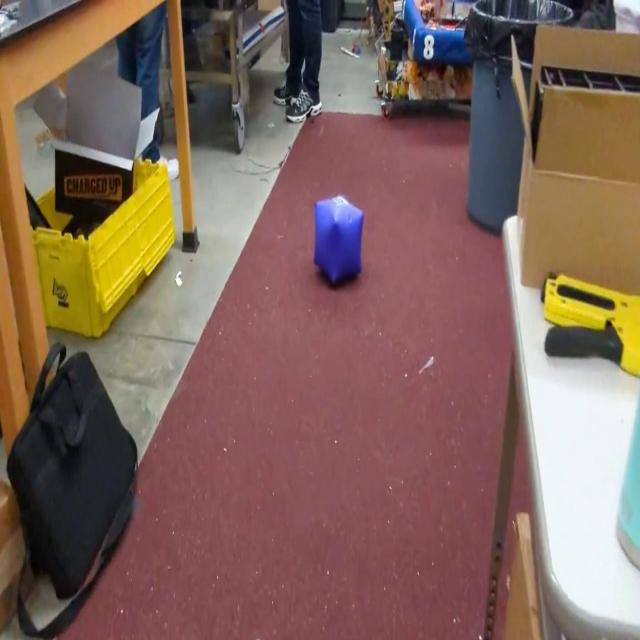frc_cube: (312, 193, 366, 288)
